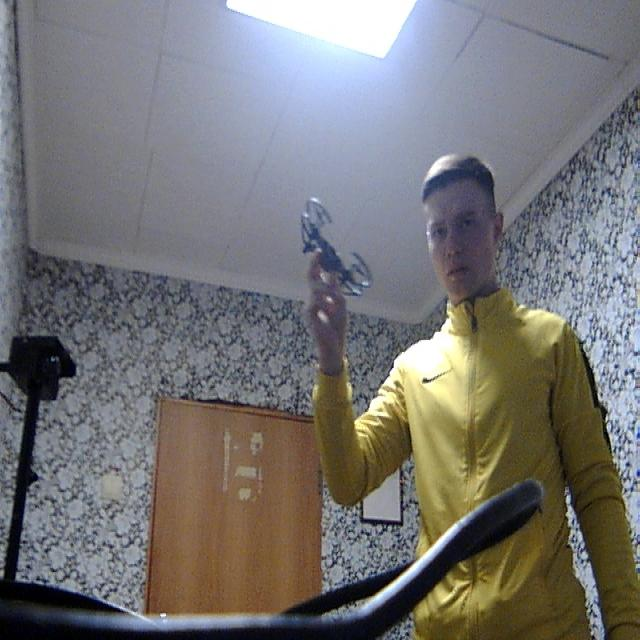drone: (288, 191, 381, 314)
